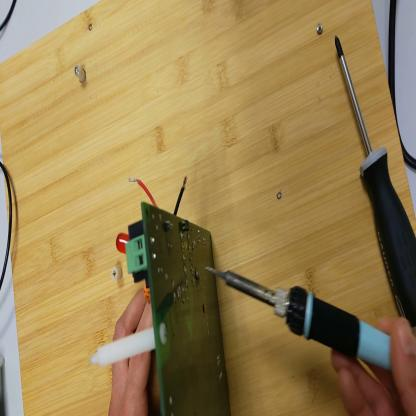hand: (333, 322, 416, 416), (108, 288, 157, 412)
low voltage board: (91, 177, 231, 416)
screwdriver-: (336, 34, 416, 338)
welder probe tip: (202, 267, 416, 371)
working area: (1, 1, 416, 416)
